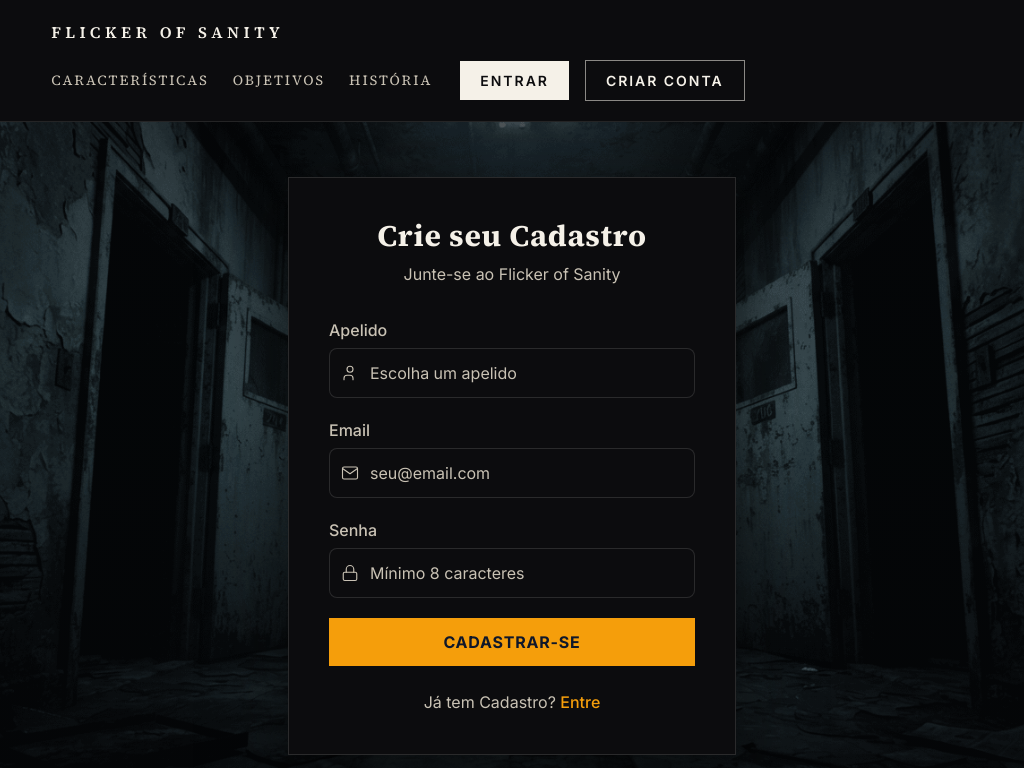
Test: CadastroPage › validação client-side: Informe um email válido. e Informe a senha.
Type "apeli" into the field labelled "Apelido" at (512, 373), box [329,348,695,398]
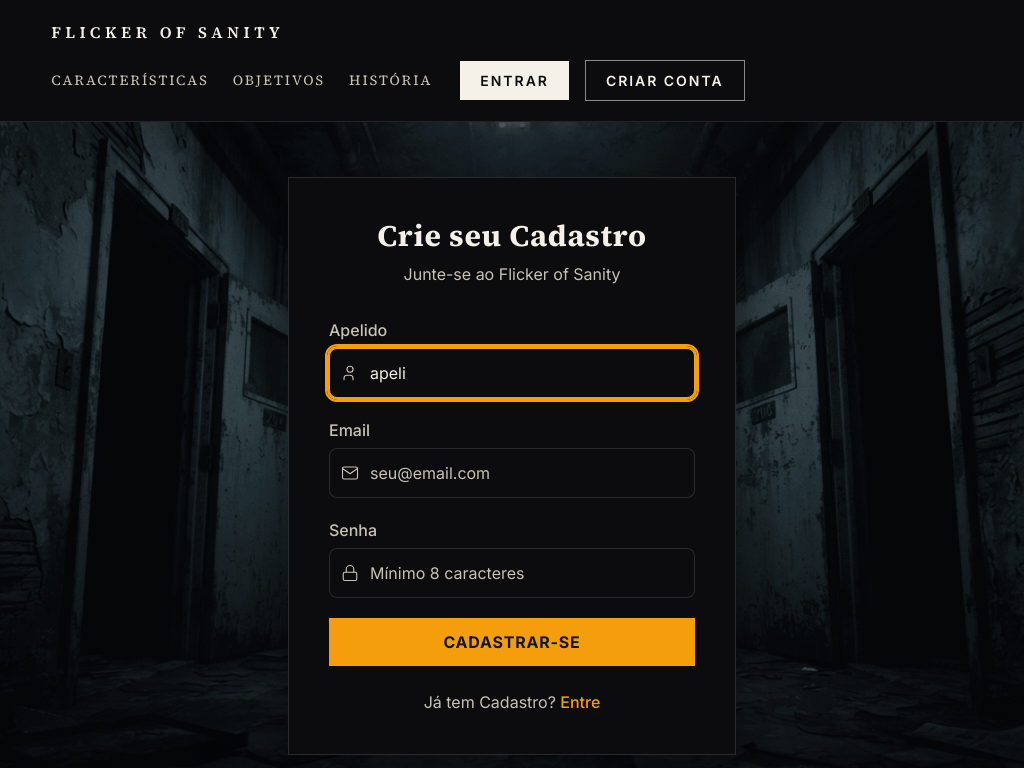
Type "invalido" into the field labelled "Email" at (512, 473), box [329,448,695,498]
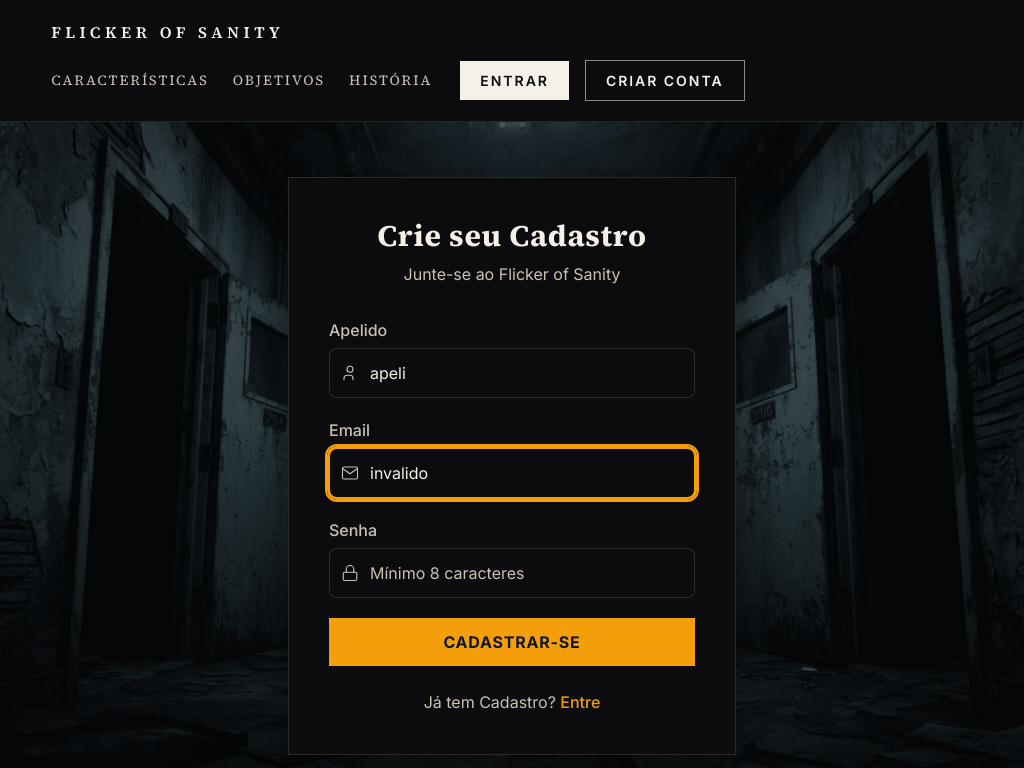
Click the button "CADASTRAR-SE" at (512, 642), box [329,618,695,666]
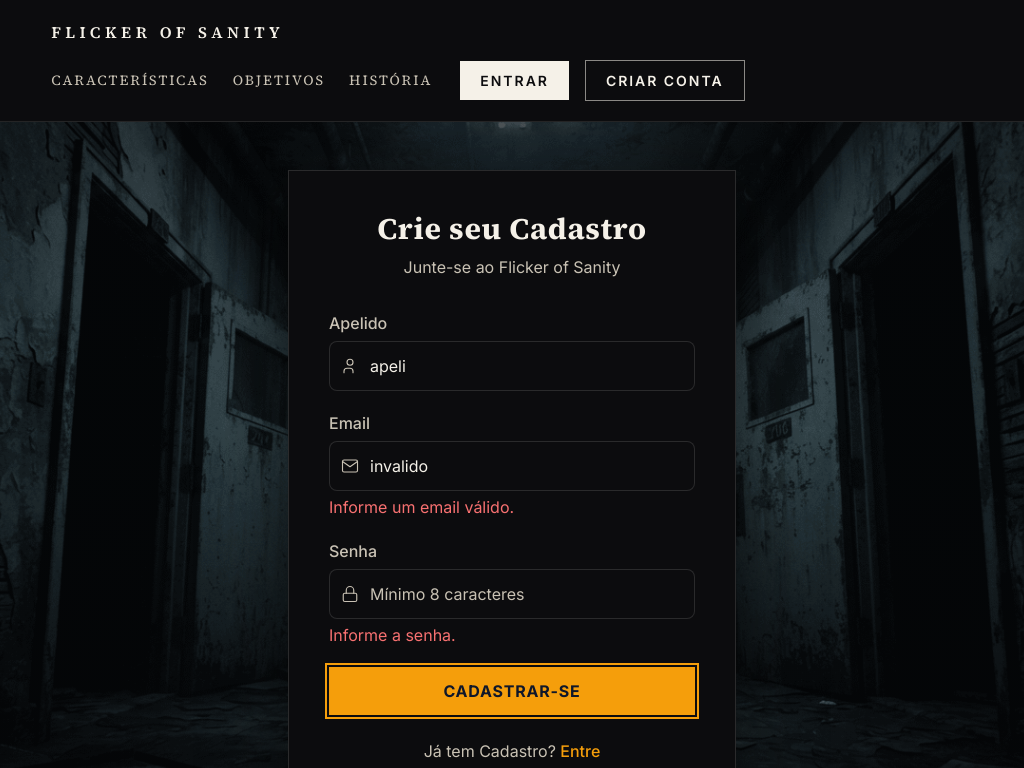
expect the text "Informe um email válido." is shown: met, box [329,497,514,517]
expect the text "Informe a senha." is shown: met, box [329,625,456,645]
